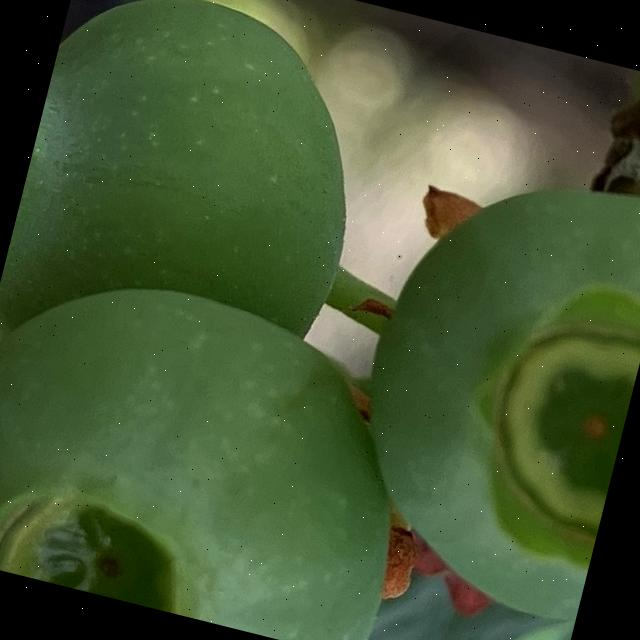Blueberries: (0, 240, 449, 640), (325, 137, 640, 626)
